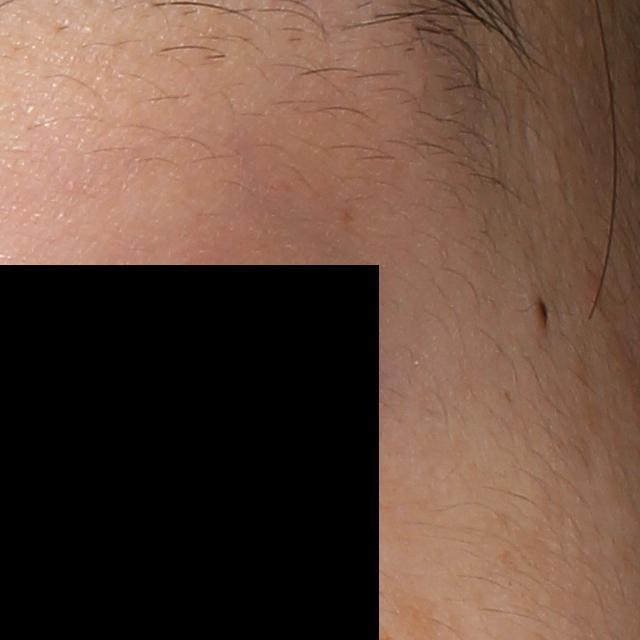nevus: (530, 288, 552, 331)
